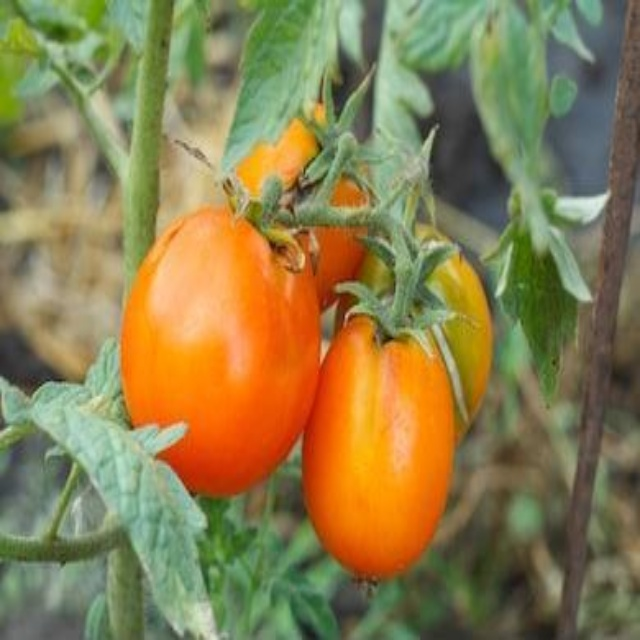tomato: (119, 222, 335, 493), (301, 327, 467, 588), (218, 110, 379, 297), (342, 215, 492, 413)
